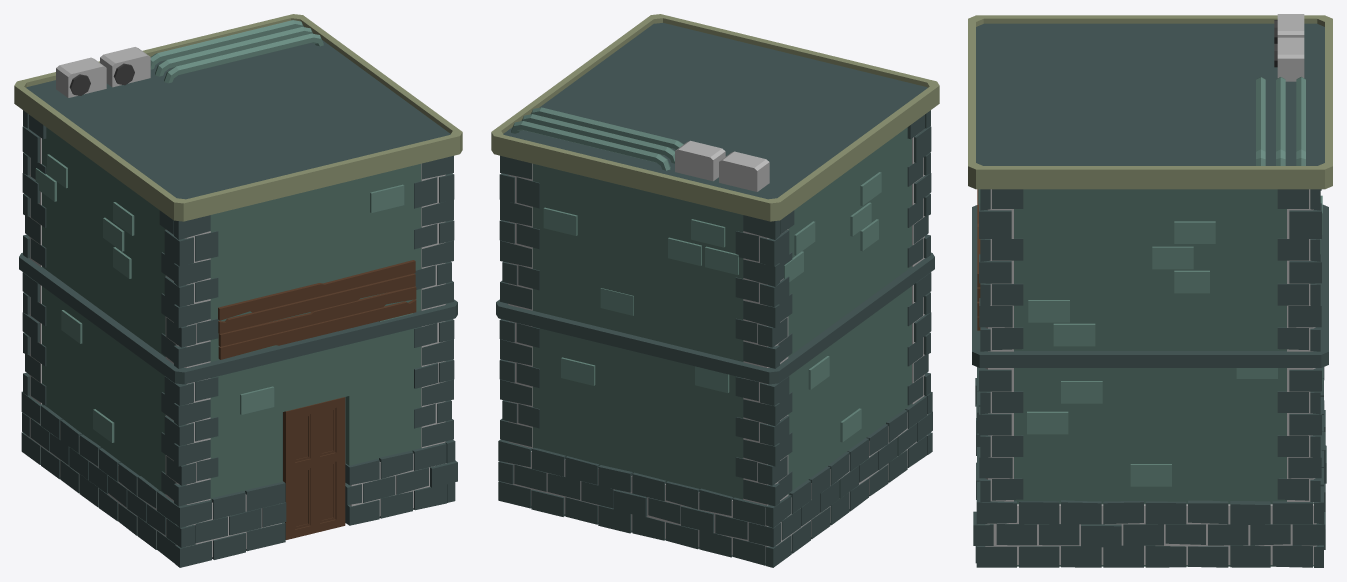
The model's file is 2Story_Sign_Mat.glb.
3 views of the same model, side by side, from view 1: azimuth 30°, elevation 25°; view 2: azimuth 150°, elevation 25°; view 3: azimuth 270°, elevation 25° (orthographic). The views are drawn at different scales.
Parts seen in each view (by area): view 1: 2Story_Sign_Mat; view 2: 2Story_Sign_Mat; view 3: 2Story_Sign_Mat.
Part boxes in pixels (bbox=[...]): 2Story_Sign_Mat: bbox=[14, 14, 462, 567]; 2Story_Sign_Mat: bbox=[491, 14, 939, 567]; 2Story_Sign_Mat: bbox=[968, 14, 1332, 567].
Bounding box in the file's own units: 2.15 × 2.76 × 2.15.
